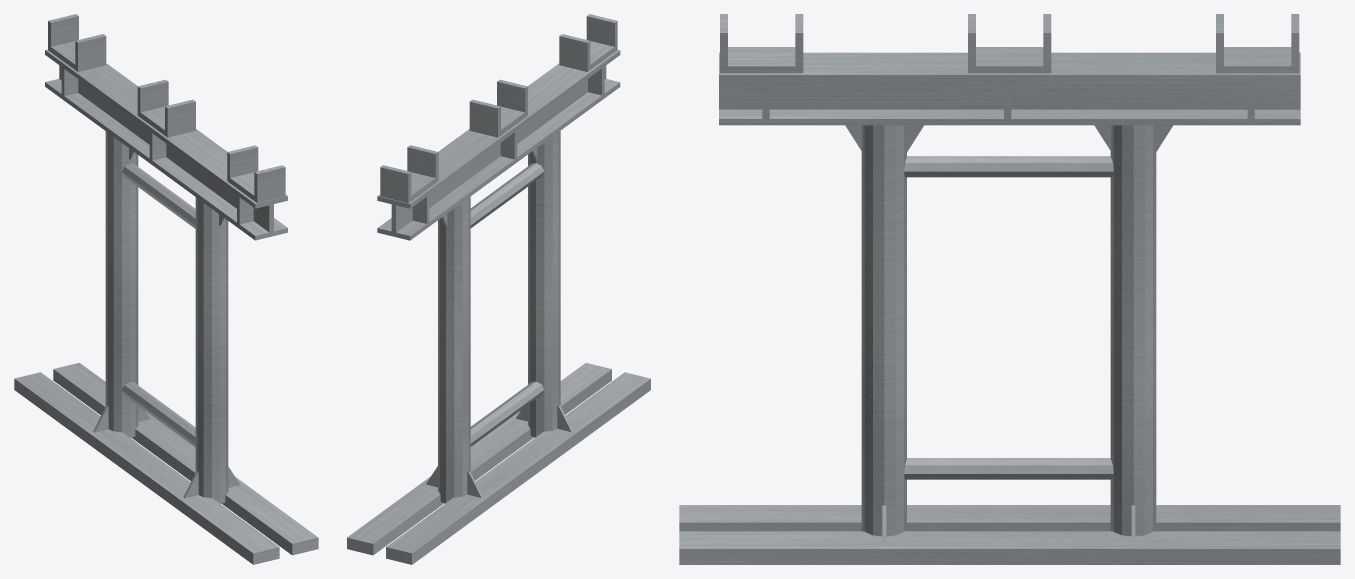
The picture shows the model from 3 angles, left to right: view 1: azimuth 30°, elevation 25°; view 2: azimuth 150°, elevation 25°; view 3: azimuth 270°, elevation 25°; orthographic projection. The views are drawn at different scales.
Visible parts, largest first — view 1: Object249; view 2: Object249; view 3: Object249.
Boxes of the visible parts, box(x1,y1,x2,y2) form: Object249: box(14, 14, 318, 564); Object249: box(347, 14, 650, 564); Object249: box(679, 14, 1340, 564).
Size of the model in its own units: 50.34 by 278 by 320.
